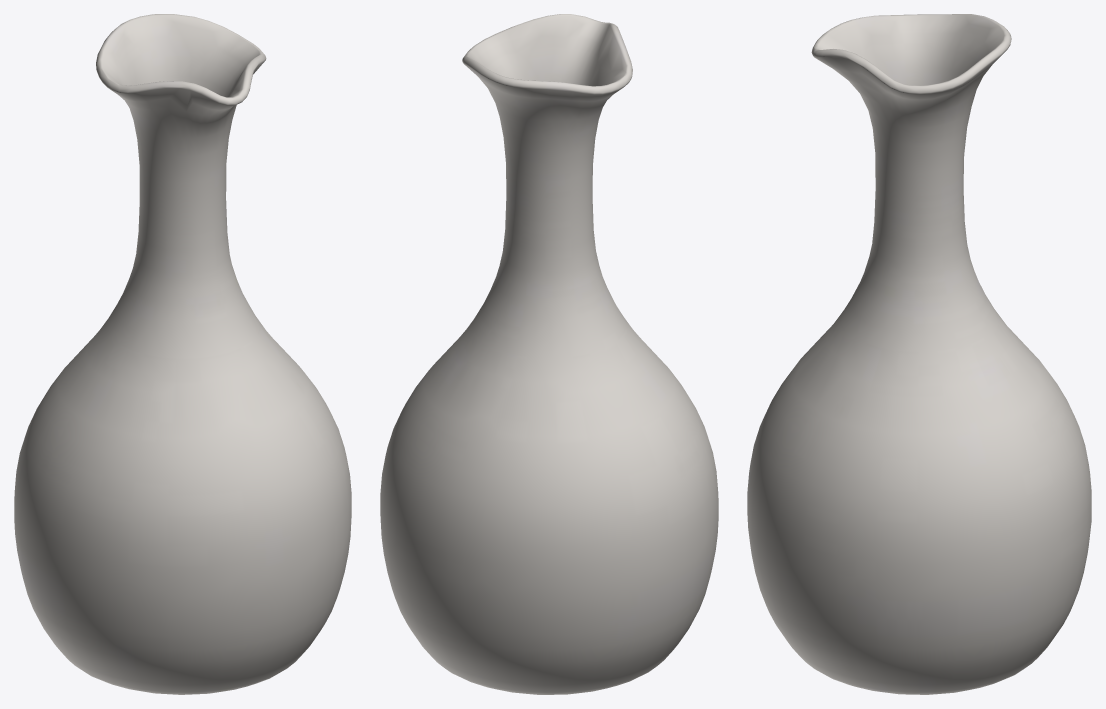
Rendered from ceramic_vase_01.glb.
3 renders of one model, left to right at view 1: azimuth 30°, elevation 25°; view 2: azimuth 150°, elevation 25°; view 3: azimuth 270°, elevation 25°, orthographic. The views are drawn at different scales.
Visible parts, largest first — view 1: ceramic_vase_01_lod0; view 2: ceramic_vase_01_lod0; view 3: ceramic_vase_01_lod0.
Part boxes in pixels (bbox=[...]): ceramic_vase_01_lod0: bbox=[14, 14, 351, 694]; ceramic_vase_01_lod0: bbox=[380, 14, 718, 694]; ceramic_vase_01_lod0: bbox=[747, 14, 1091, 694].
Size of what is drawn, in the model's own units: 0.2034 by 0.4003 by 0.2035.
Materials: 1 (1 with a texture image).
